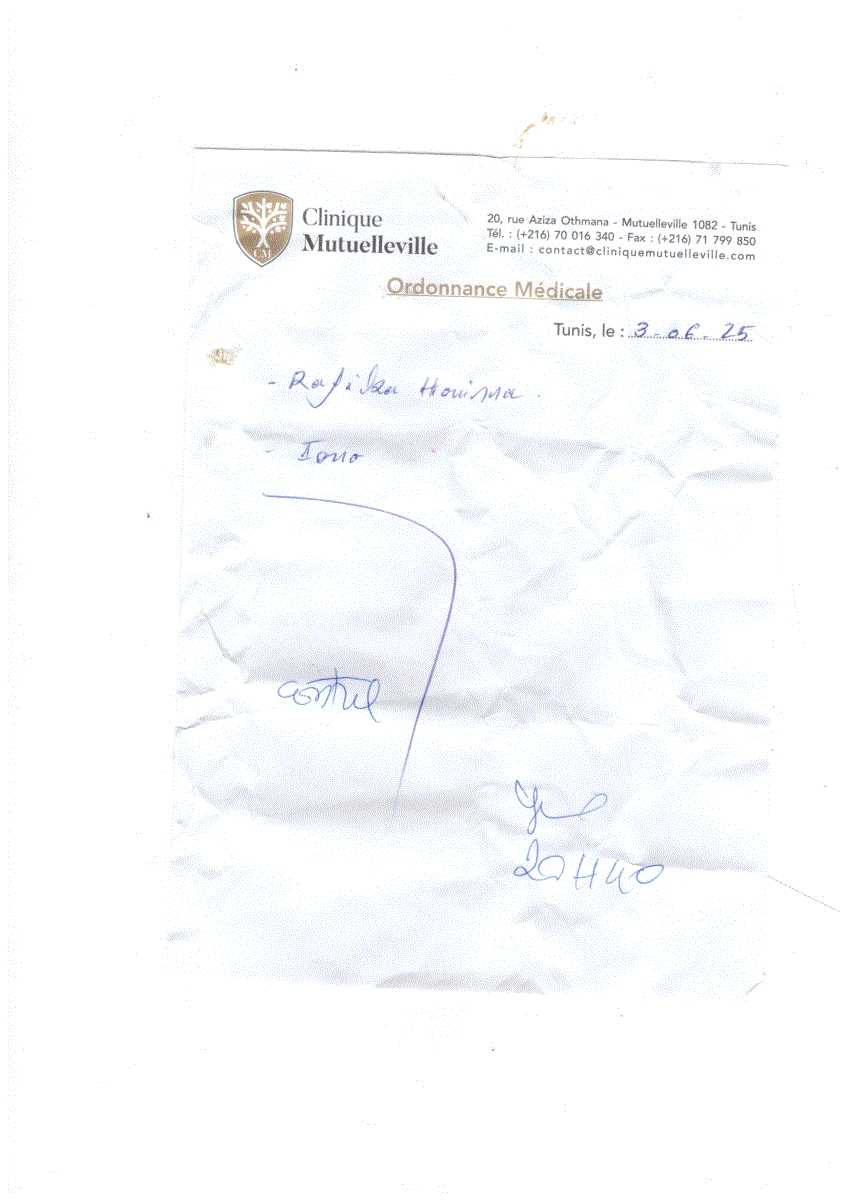zone_analyses: (222, 420, 739, 890)
zone_date: (623, 312, 771, 337)
zone_patient: (264, 364, 556, 406)
zone_prescripteur: (475, 197, 771, 268)
